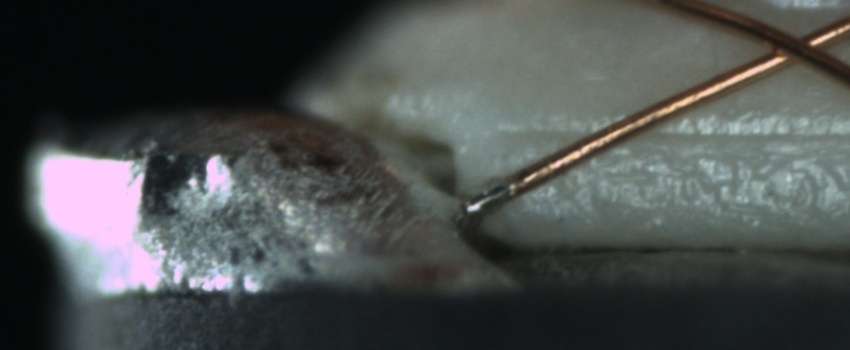CL: (744, 16, 839, 75)
DL: (493, 108, 845, 158)
TS: (463, 177, 510, 217)
